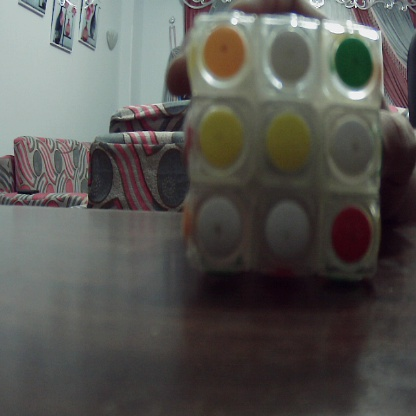Rubix Cube: (181, 13, 381, 279)
